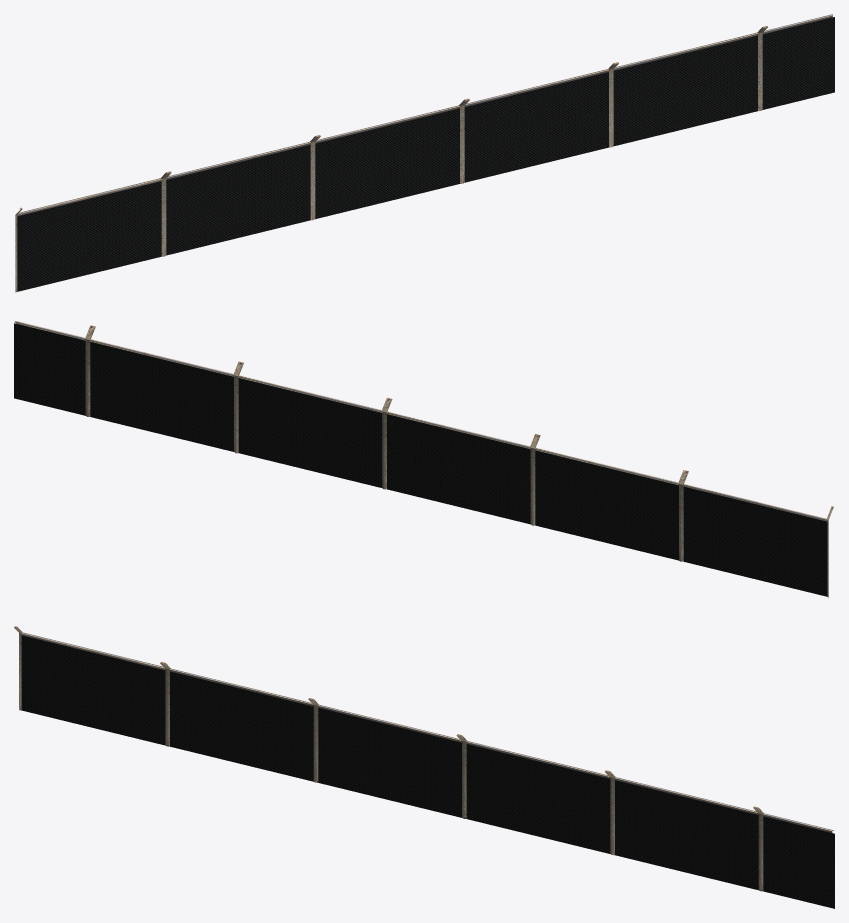
File: M11Z1_ChainFence_D2.glb
3 views of the same model, one above another, from view 1: azimuth 30°, elevation 25°; view 2: azimuth 150°, elevation 25°; view 3: azimuth 330°, elevation 25° (orthographic).
Visible parts, largest first — view 1: M11Z1_CHAINFENCE_D2; view 2: M11Z1_CHAINFENCE_D2; view 3: M11Z1_CHAINFENCE_D2.
Part boxes in pixels (box(x1,y1,x2,y2)): M11Z1_CHAINFENCE_D2: box(15, 14, 834, 292); M11Z1_CHAINFENCE_D2: box(14, 321, 833, 597); M11Z1_CHAINFENCE_D2: box(14, 626, 834, 908).
Size of the model in its own units: 44 by 4.5 by 0.594.
3 materials, 3 textured.
